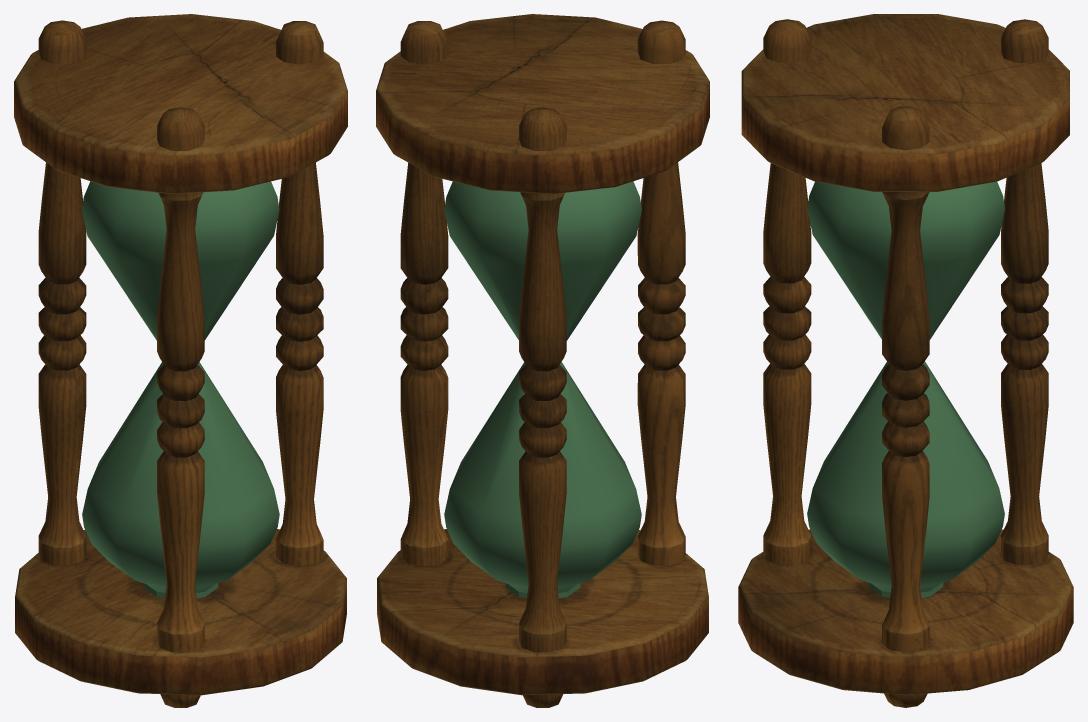
The picture shows the model from 3 angles, left to right: view 1: azimuth 30°, elevation 25°; view 2: azimuth 150°, elevation 25°; view 3: azimuth 270°, elevation 25°; orthographic projection.
Visible parts, largest first — view 1: SandTimer_LP; view 2: SandTimer_LP; view 3: SandTimer_LP.
Part boxes in pixels (x1,y1,x2,y2): SandTimer_LP: [14, 14, 347, 707]; SandTimer_LP: [376, 14, 709, 707]; SandTimer_LP: [738, 14, 1073, 707].
Bounding box in the file's own units: 12.51 × 24.46 × 12.51.
